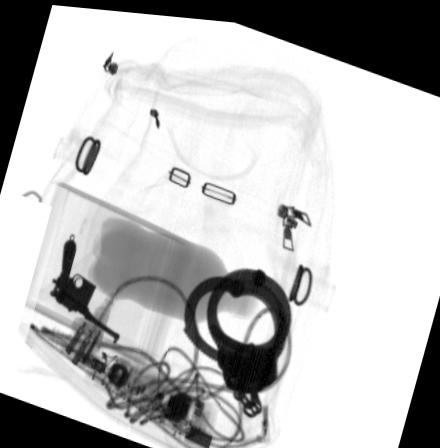Gun: (47, 235, 122, 343)
HandCuffs: (177, 262, 289, 415)
